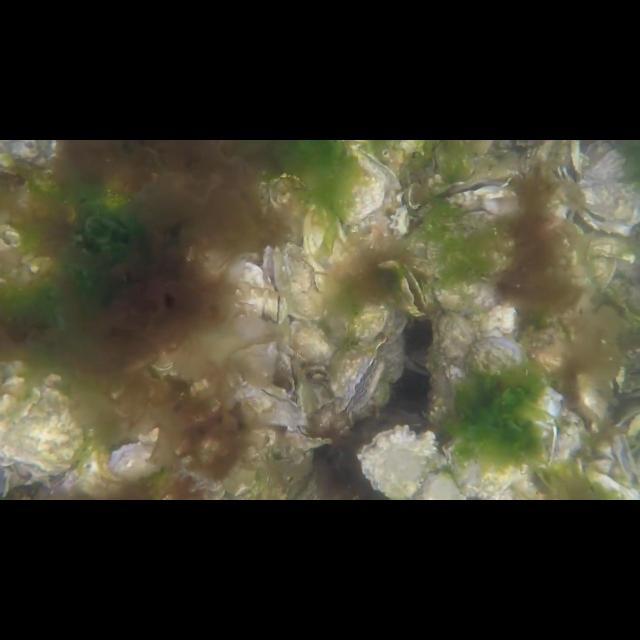Oyster-Closed: (442, 436, 544, 500), (333, 335, 389, 413), (232, 384, 308, 430), (290, 422, 334, 452)
Oyster-Indeterminate: (458, 333, 564, 422), (0, 372, 84, 476), (357, 424, 437, 501), (330, 140, 388, 224), (433, 311, 477, 403), (302, 203, 354, 273), (282, 239, 324, 319), (348, 300, 408, 348), (286, 318, 334, 372), (432, 276, 502, 312), (109, 426, 161, 472), (238, 262, 272, 318), (582, 466, 636, 500), (588, 232, 640, 262), (582, 252, 618, 292)
Oyster-Open: (571, 146, 640, 236), (434, 179, 518, 229), (243, 341, 295, 399), (262, 243, 286, 321), (611, 432, 640, 487), (400, 268, 430, 316), (560, 140, 584, 184)
